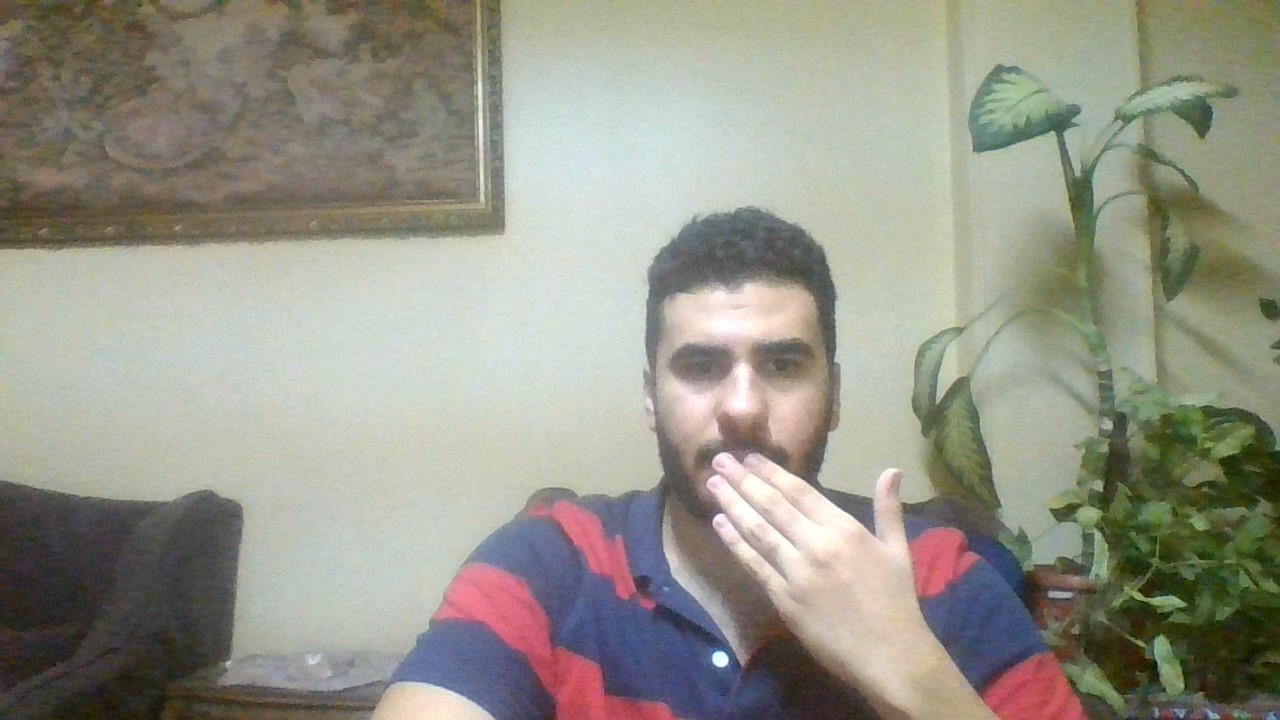thankyou: (687, 447, 952, 670)
